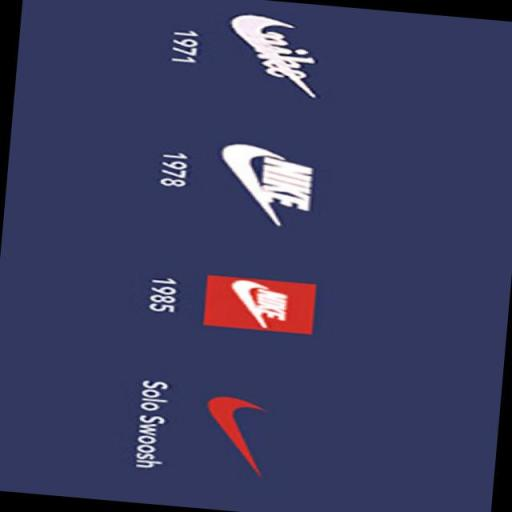Nike: (192, 391, 270, 478)
